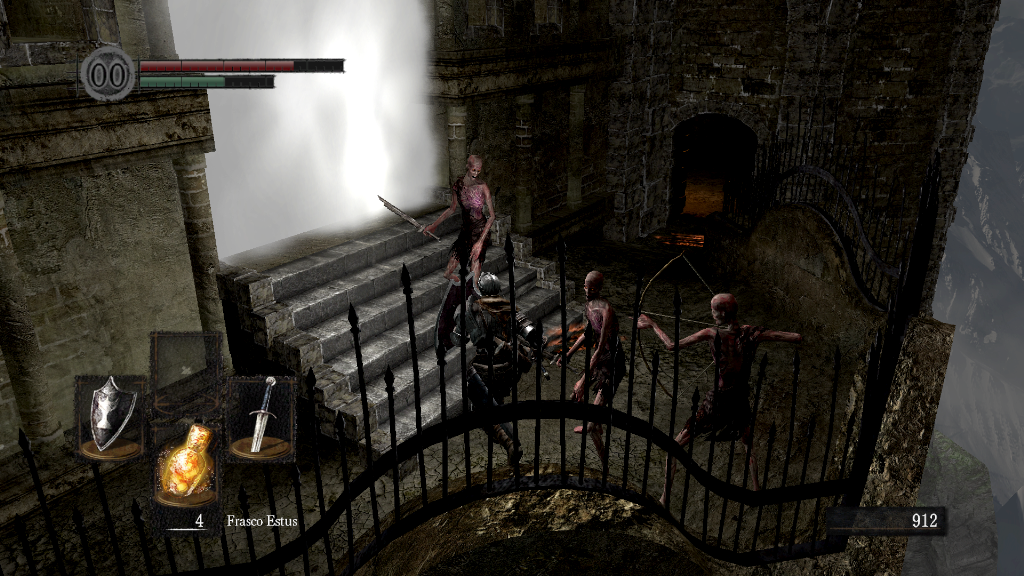health: (138, 58, 343, 71)
hollow: (633, 247, 802, 502), (559, 266, 622, 470), (415, 154, 495, 307)
humanity: (80, 45, 136, 102)
player: (433, 270, 539, 465)
souls: (825, 506, 945, 536)
stamina: (138, 74, 274, 88)
